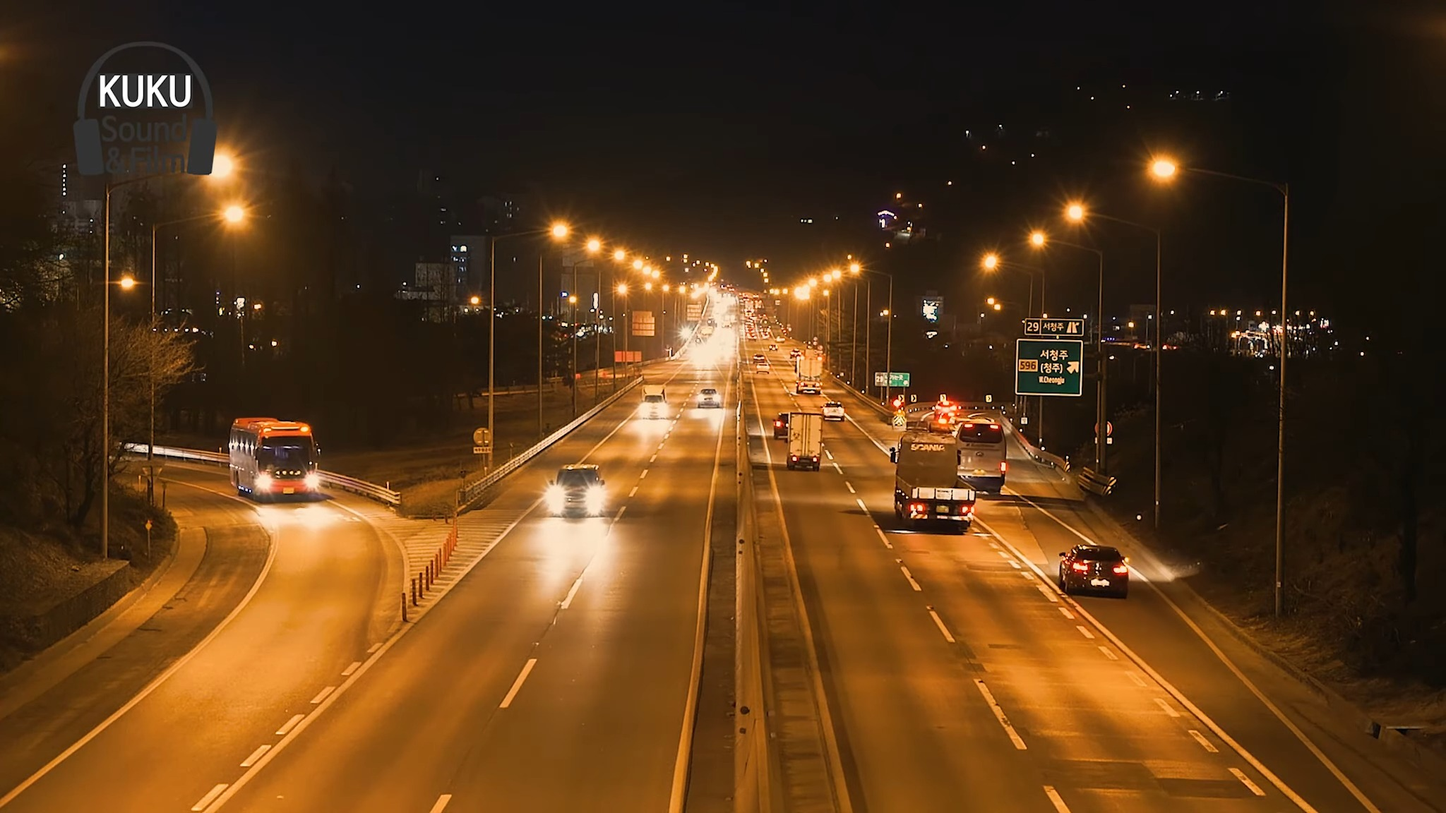car: (226, 415, 324, 504), (544, 464, 609, 522), (1063, 542, 1131, 596)
truck: (888, 434, 979, 532), (783, 410, 826, 473)
